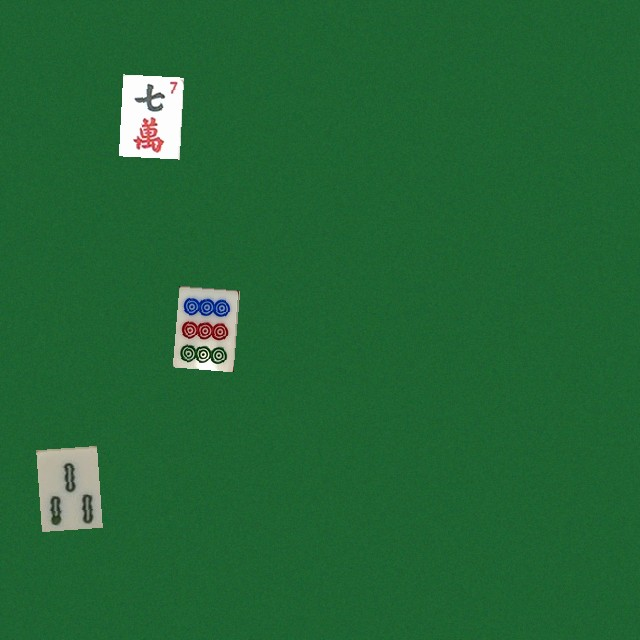tile: (36, 445, 97, 527), (172, 285, 233, 367), (118, 74, 179, 156)
